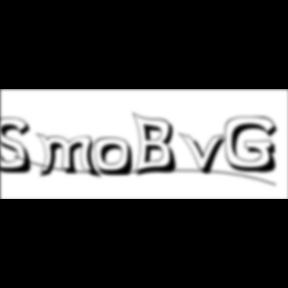B: (133, 111, 183, 179)
G: (224, 116, 284, 176)
S: (0, 117, 38, 176)
m: (36, 132, 104, 181)
o: (95, 137, 137, 179)
v: (179, 131, 233, 177)
